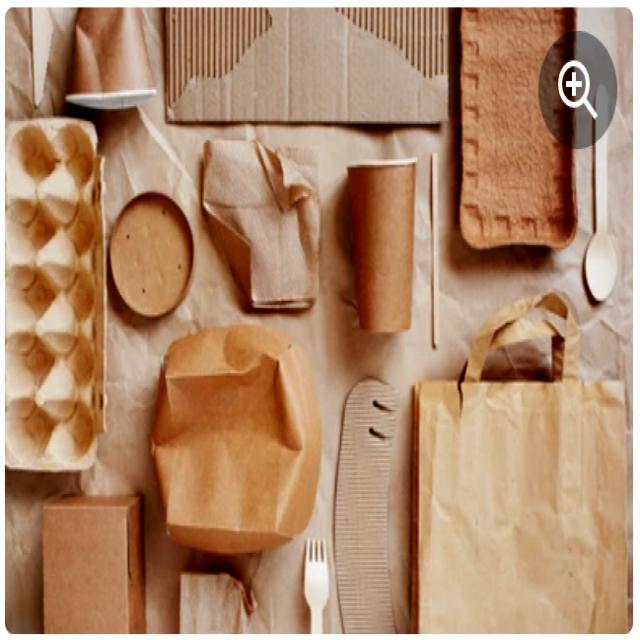Cardboard: (160, 5, 452, 128), (458, 7, 579, 254), (40, 494, 148, 640)
Paper: (412, 374, 631, 638), (153, 329, 320, 556)
Trash: (345, 155, 419, 335), (65, 10, 160, 114)
